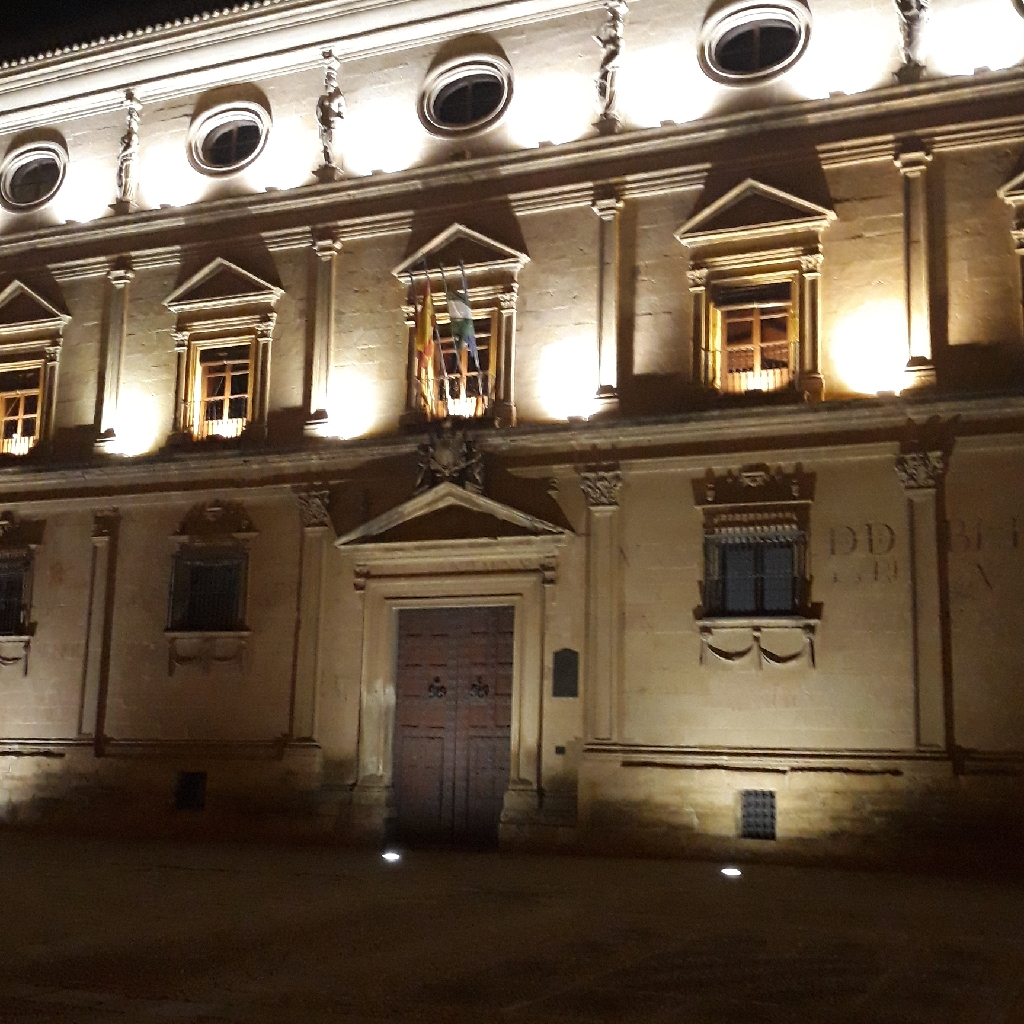fronton: (323, 474, 576, 563), (672, 170, 848, 251), (393, 216, 529, 287), (162, 249, 287, 312), (1, 276, 75, 338)
ojo-de-buey: (701, 1, 810, 88), (423, 49, 518, 131), (186, 102, 272, 181), (1, 136, 73, 213)
vano-adintelado: (355, 565, 551, 844), (691, 242, 827, 397), (404, 283, 518, 422), (170, 311, 277, 441), (1, 338, 65, 466)
